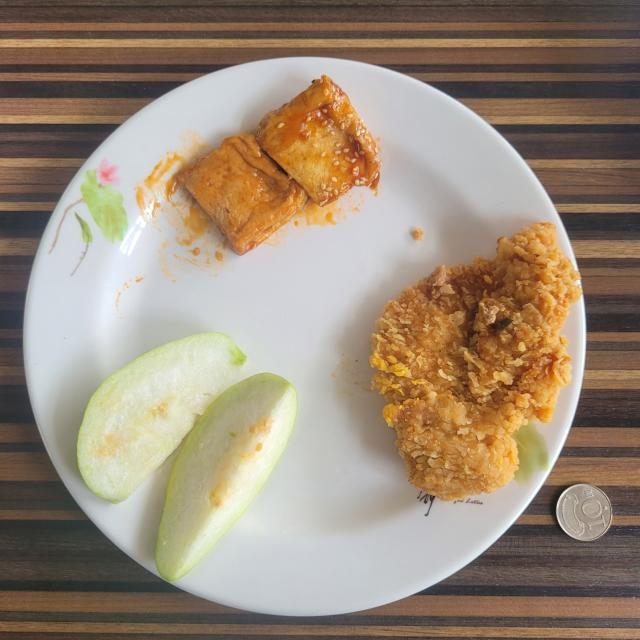coin: (556, 484, 612, 541)
creamy tofu: (178, 75, 381, 255)
fried chicken cutlet: (370, 222, 581, 501)
guava -sliced-: (78, 332, 298, 581)
